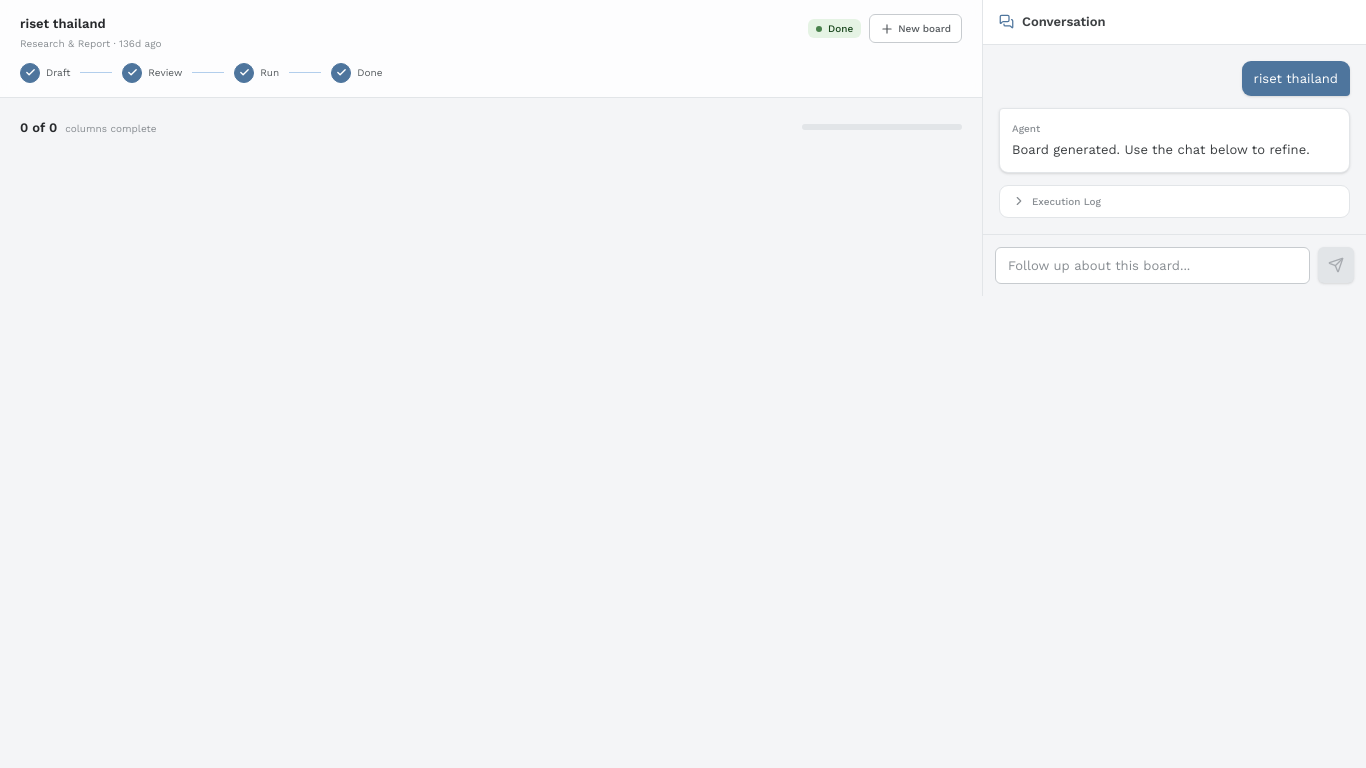
it: AgentPage NEW_DIRECTION buttons › renders confirm and cancel buttons for NEW_DIRECTION response
The width and height of the screenshot is (1366, 768).
Expected: the text "Agent" is shown, left=1012, top=123, right=1040, bottom=134
In the field with placeholder "Follow up about this board...": (1152, 265) left=995, top=246, right=1310, bottom=284, type "Now research scooters"
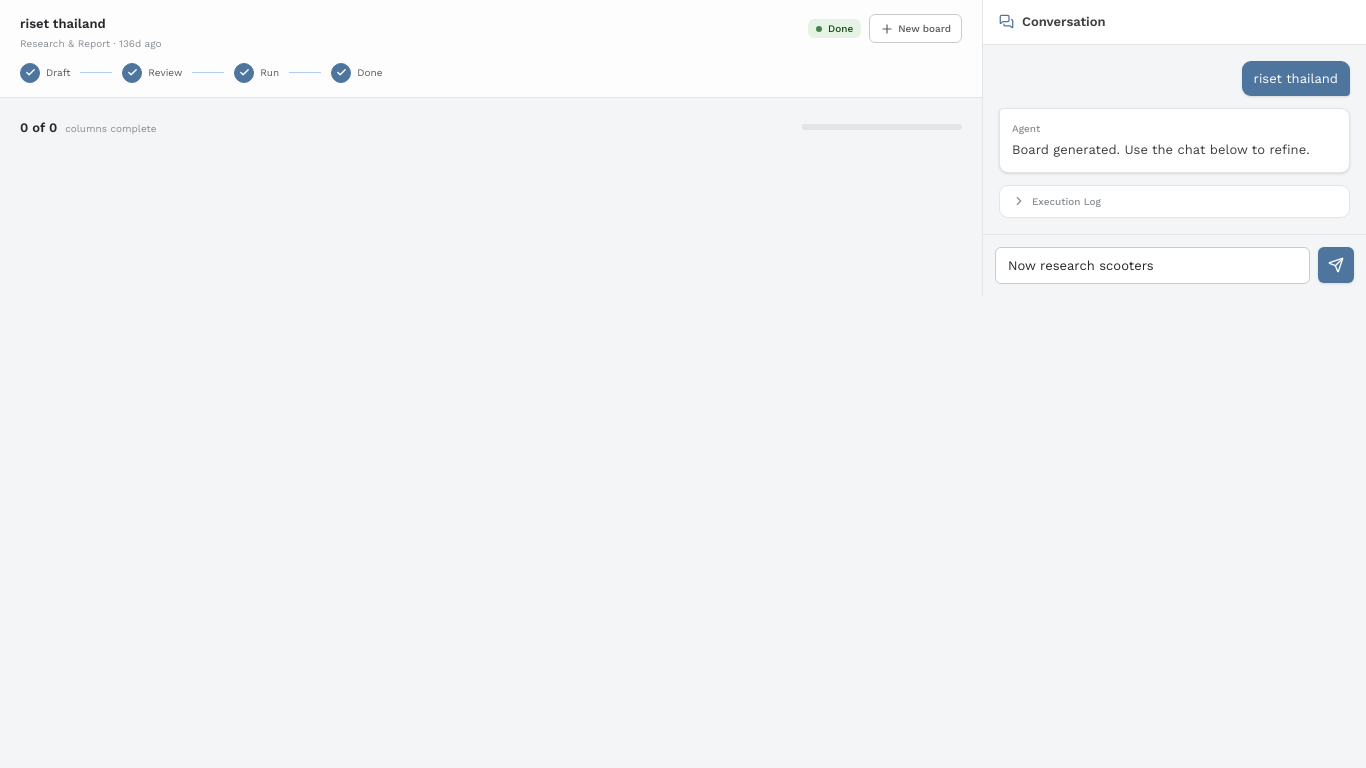
Click the button named "Send": click(1336, 264) left=1318, top=246, right=1354, bottom=282
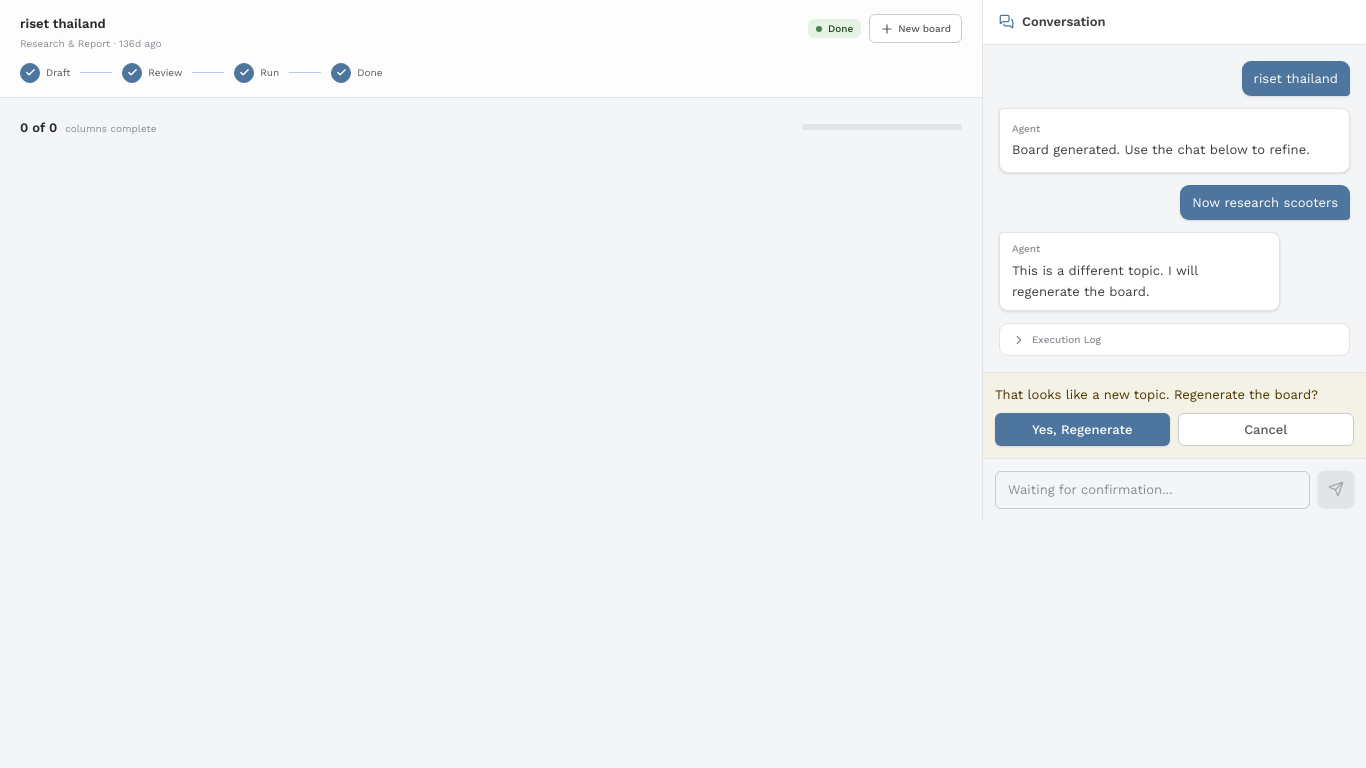
Now the button "Yes, Regenerate" is shown, box left=995, top=413, right=1170, bottom=446
Now the button "Cancel" is shown, box left=1178, top=413, right=1354, bottom=446
